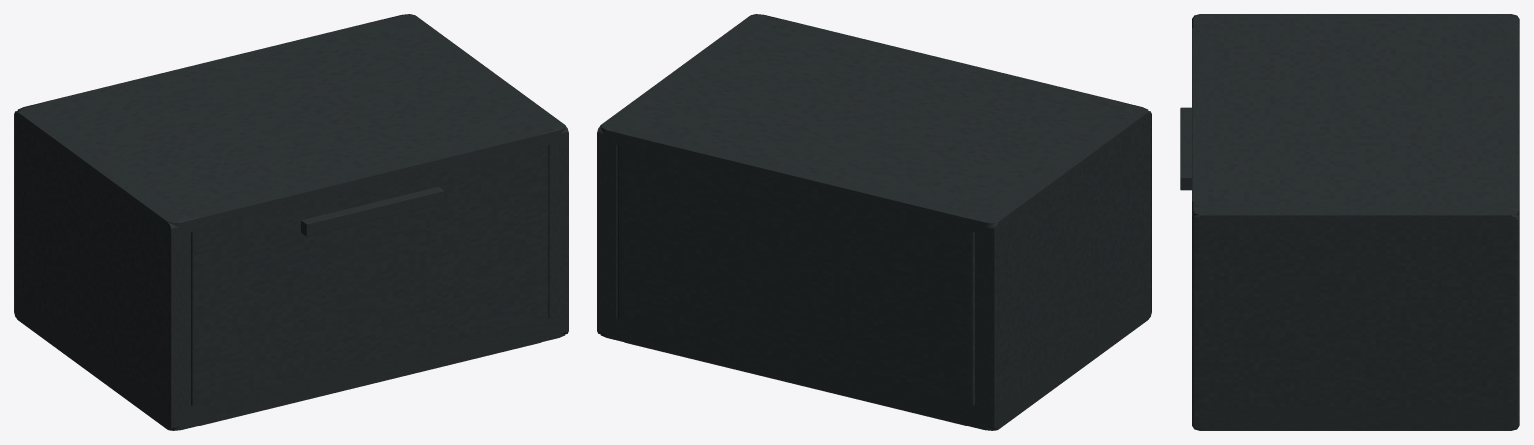
The model's file is charger.glb.
3 views of the same model, side by side, from view 1: azimuth 30°, elevation 25°; view 2: azimuth 150°, elevation 25°; view 3: azimuth 270°, elevation 25° (orthographic). The views are drawn at different scales.
Visible parts, largest first — view 1: edge (×2), lid, side (×2), bottom, grip; view 2: edge (×2), lid, side (×2), bottom; view 3: side (×2), lid, bottom, edge (×2), grip.
Boxes of the visible parts, x1=… form: edge (×2): x1=42, y1=19, x2=549, y2=425; lid: x1=17, y1=14, x2=565, y2=233; side (×2): x1=14, y1=15, x2=568, y2=430; bottom: x1=17, y1=298, x2=565, y2=430; grip: x1=301, y1=186, x2=445, y2=236; edge (×2): x1=616, y1=19, x2=1123, y2=425; lid: x1=600, y1=14, x2=1148, y2=232; side (×2): x1=597, y1=15, x2=1151, y2=430; bottom: x1=600, y1=298, x2=1148, y2=430; side (×2): x1=1192, y1=14, x2=1519, y2=430; lid: x1=1192, y1=14, x2=1519, y2=227; bottom: x1=1199, y1=408, x2=1511, y2=430; edge (×2): x1=1192, y1=28, x2=1519, y2=201; grip: x1=1180, y1=107, x2=1191, y2=190.
Bounding box in the file's own units: 0.16 × 0.08 × 0.1139.
Materials: 1 (1 with a texture image).
